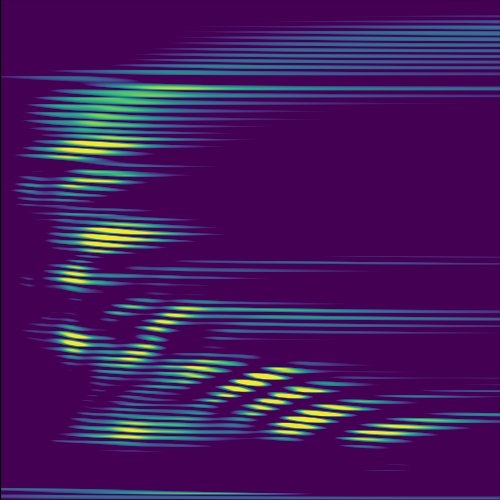semblance: (270, 396, 377, 437), (213, 361, 303, 403), (241, 379, 329, 420), (76, 218, 162, 254), (351, 415, 432, 447), (58, 171, 138, 199), (107, 332, 160, 374), (57, 134, 139, 157), (177, 354, 220, 385)
